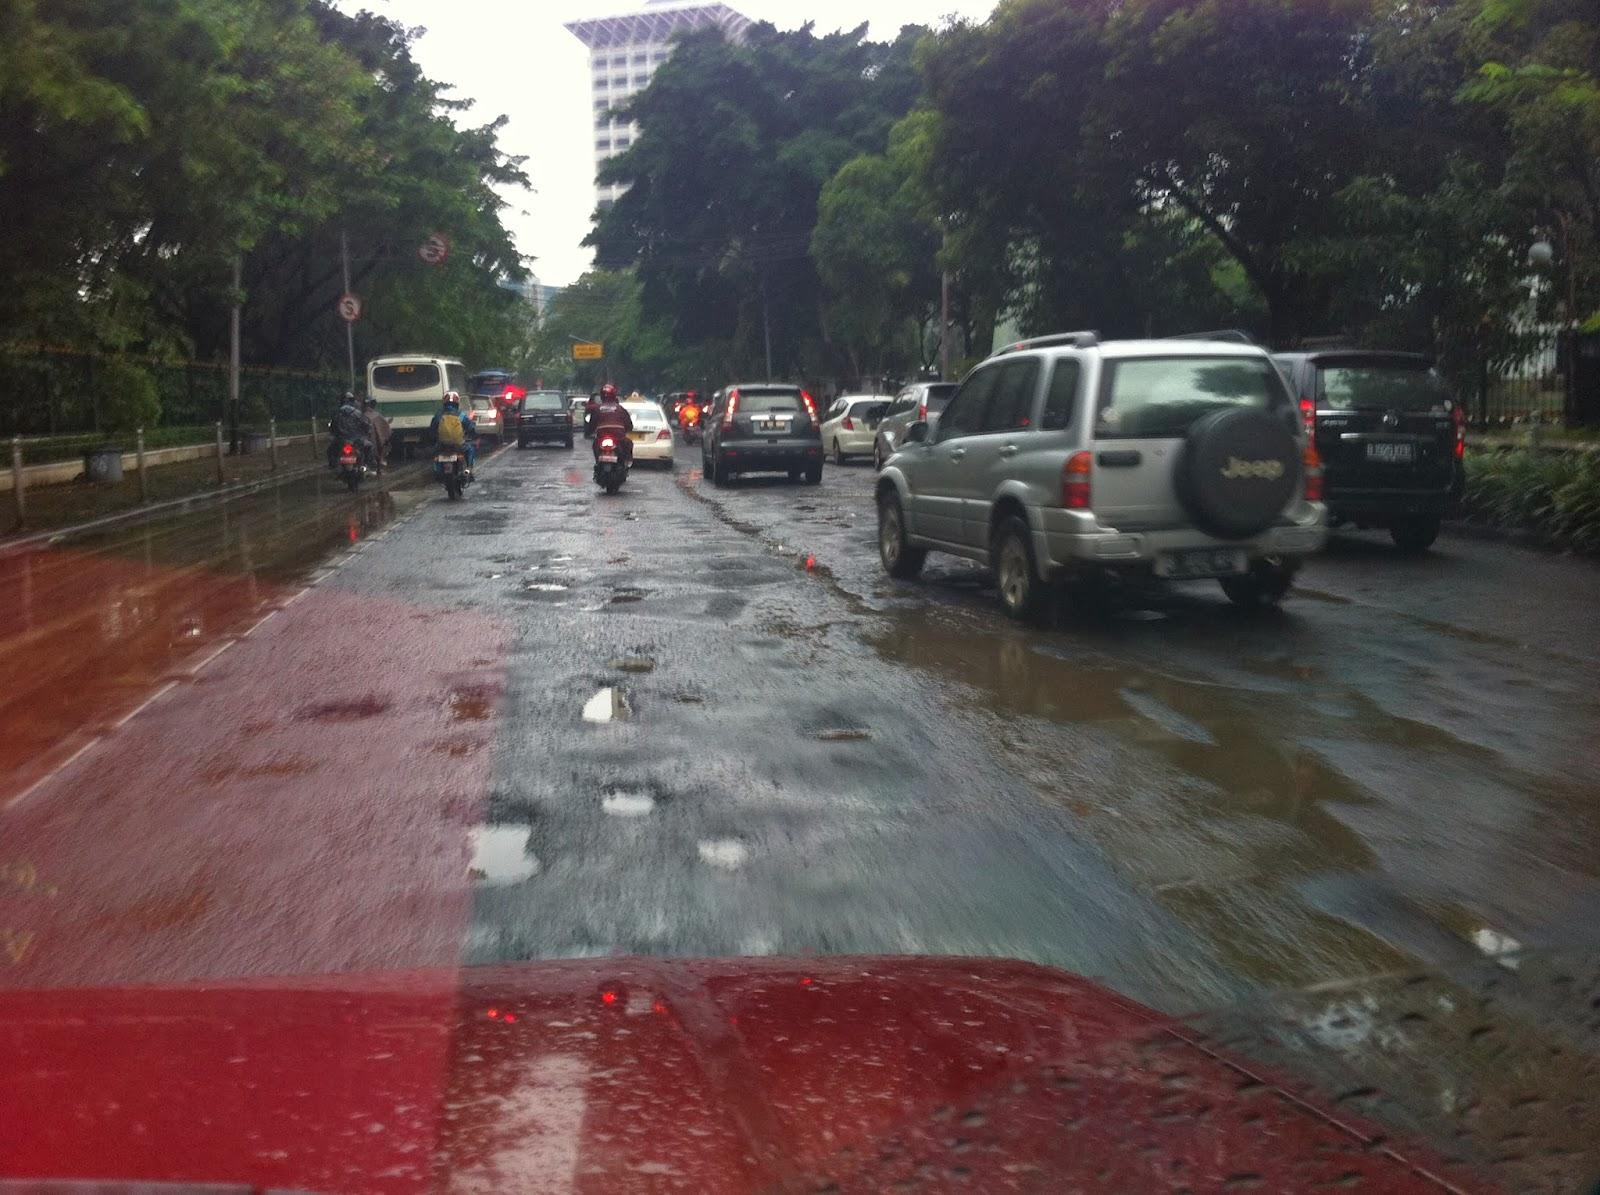Pothole: (694, 464, 1597, 1117), (74, 871, 302, 955), (424, 774, 558, 913), (491, 539, 656, 623), (191, 724, 348, 806), (233, 674, 427, 737), (545, 668, 694, 733), (740, 688, 887, 753), (589, 764, 701, 835), (440, 668, 525, 739), (678, 823, 783, 870), (718, 924, 798, 962)
